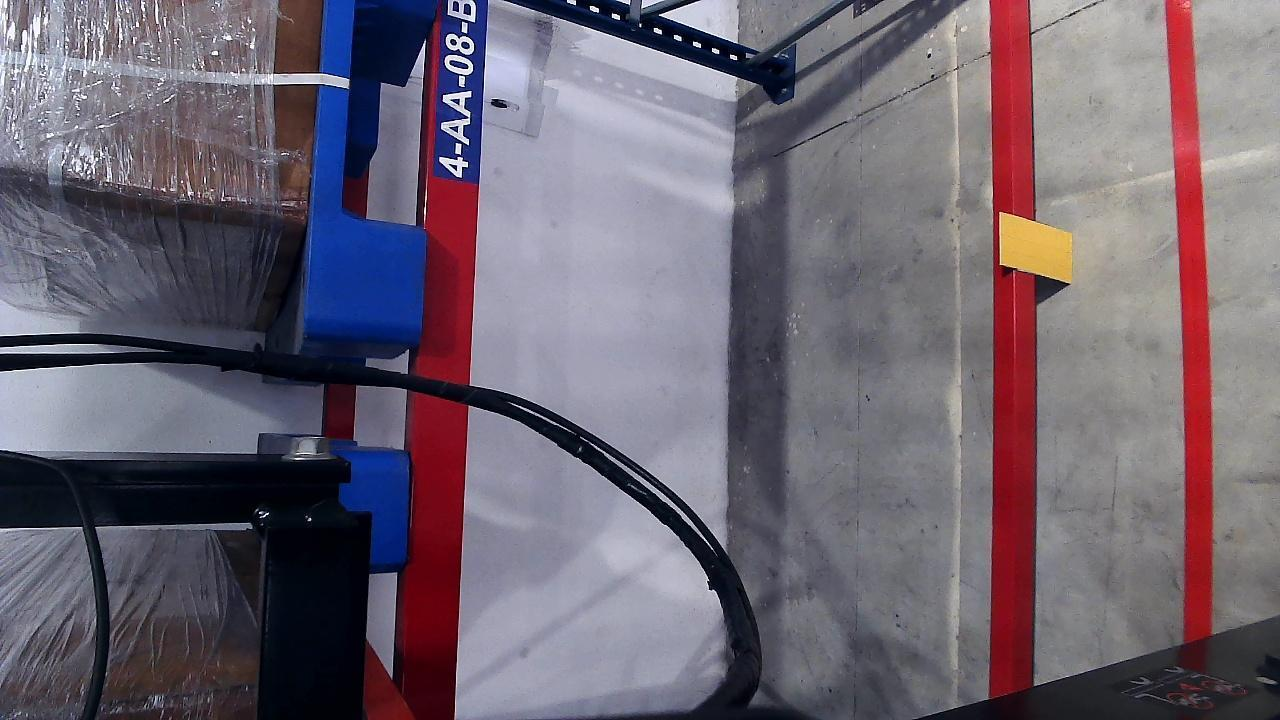red_line: (1163, 0, 1214, 638)
